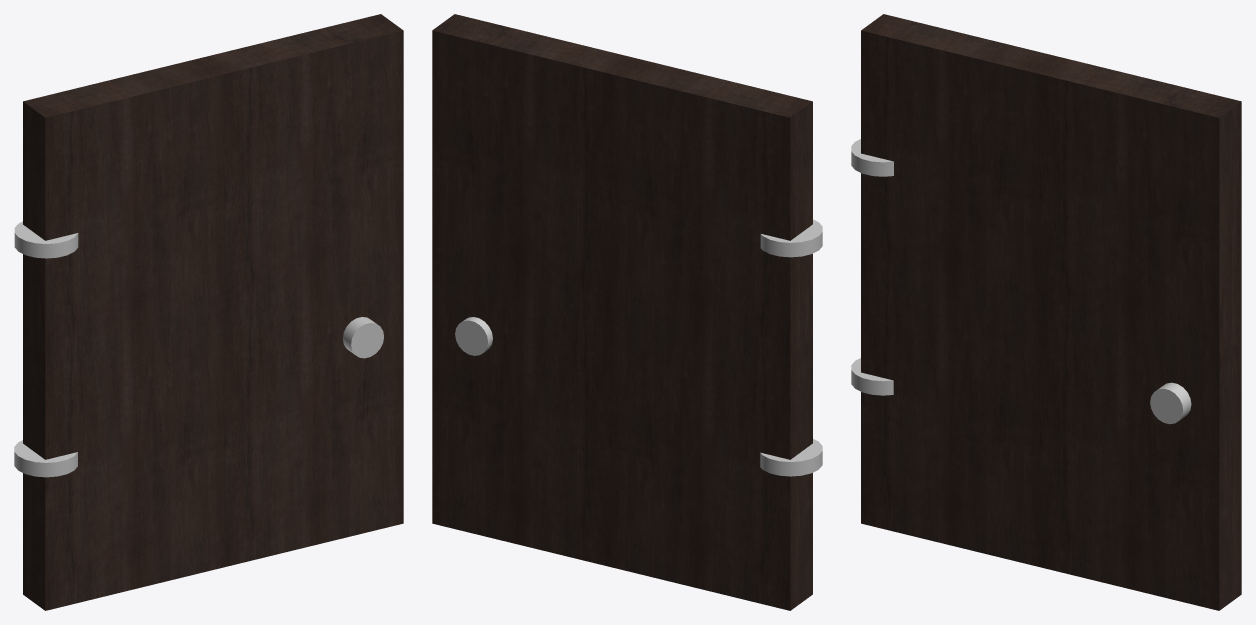
The model's file is SM_LobbyandHotel_Door_2.FBX.
The picture shows the model from 3 angles, left to right: view 1: azimuth 30°, elevation 25°; view 2: azimuth 150°, elevation 25°; view 3: azimuth 330°, elevation 25°; orthographic projection.
Visible parts, largest first — view 1: SM_LobbyandHotel_Door_2; view 2: SM_LobbyandHotel_Door_2; view 3: SM_LobbyandHotel_Door_2.
Part boxes in pixels (x1,y1,x2,y2): SM_LobbyandHotel_Door_2: [14, 14, 403, 610]; SM_LobbyandHotel_Door_2: [432, 14, 822, 610]; SM_LobbyandHotel_Door_2: [851, 14, 1241, 610].
Size of the model in its own units: 2.21 by 2.78 by 0.3656.
